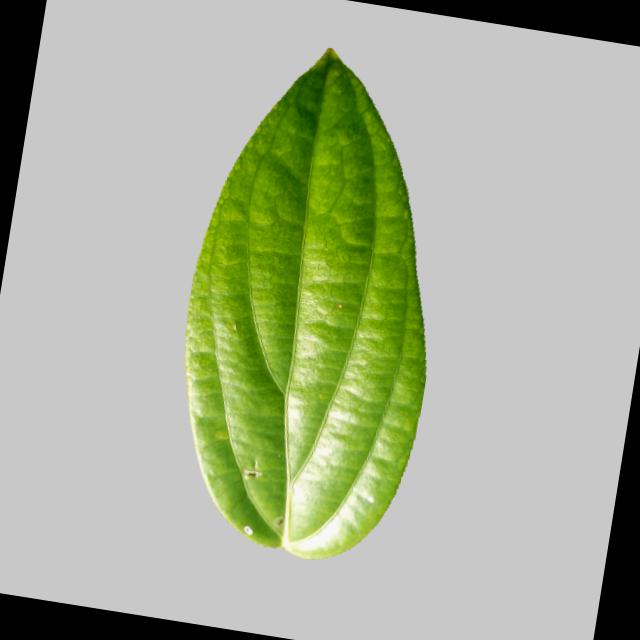healthy: (141, 31, 484, 578)
